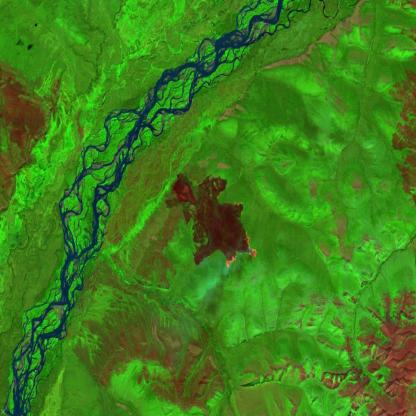fire: (218, 198, 261, 270)
